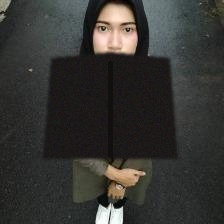Cadar_Niqab: (42, 0, 177, 158)
